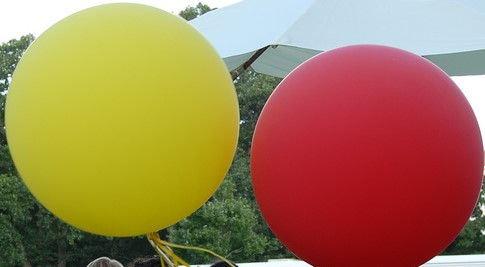Balloon: (4, 3, 240, 237), (251, 44, 485, 267)
